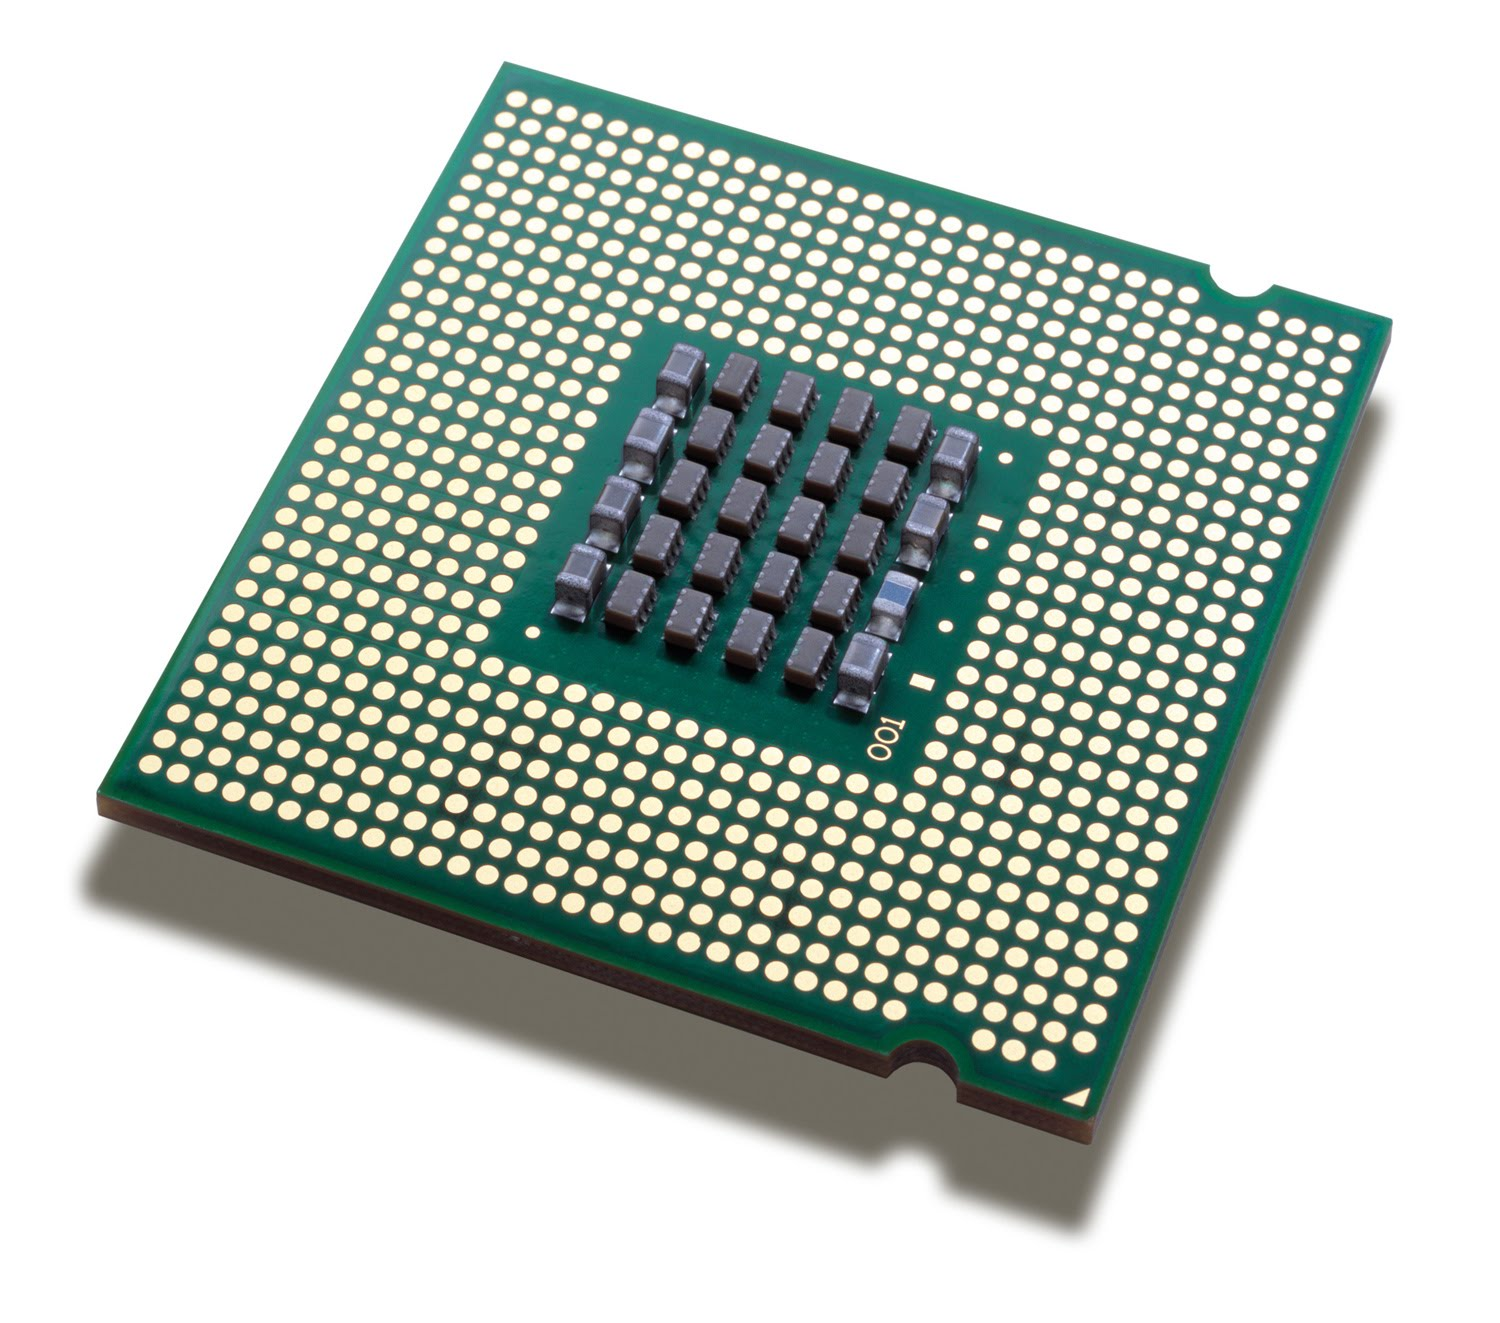Processor: (68, 40, 1451, 1191)
